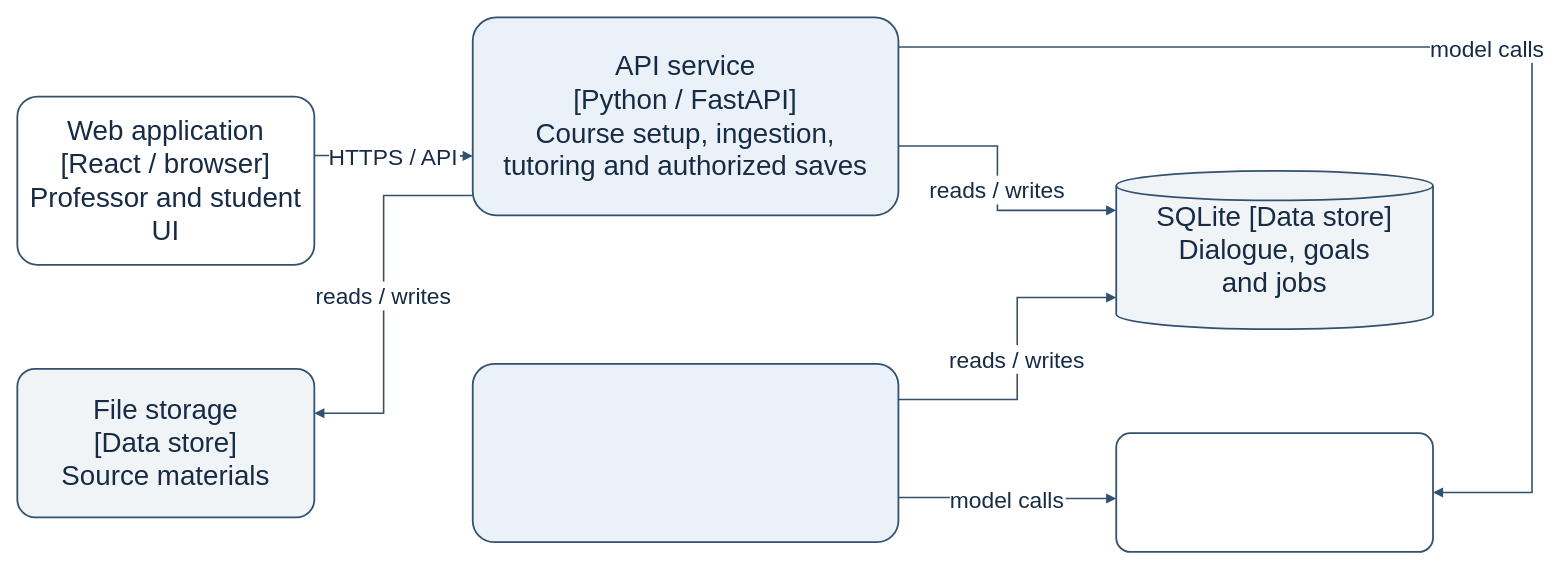
Image size: 1563x570. Some labels were removed from this diagram. The shapes that lost their labels are listed below. From the top down, each one's centre as x and y in pixels, then its label:
(x=685, y=452): Autonomy worker [Python] Observes activity and processes due support
(x=1274, y=492): Generation provider [External system]
